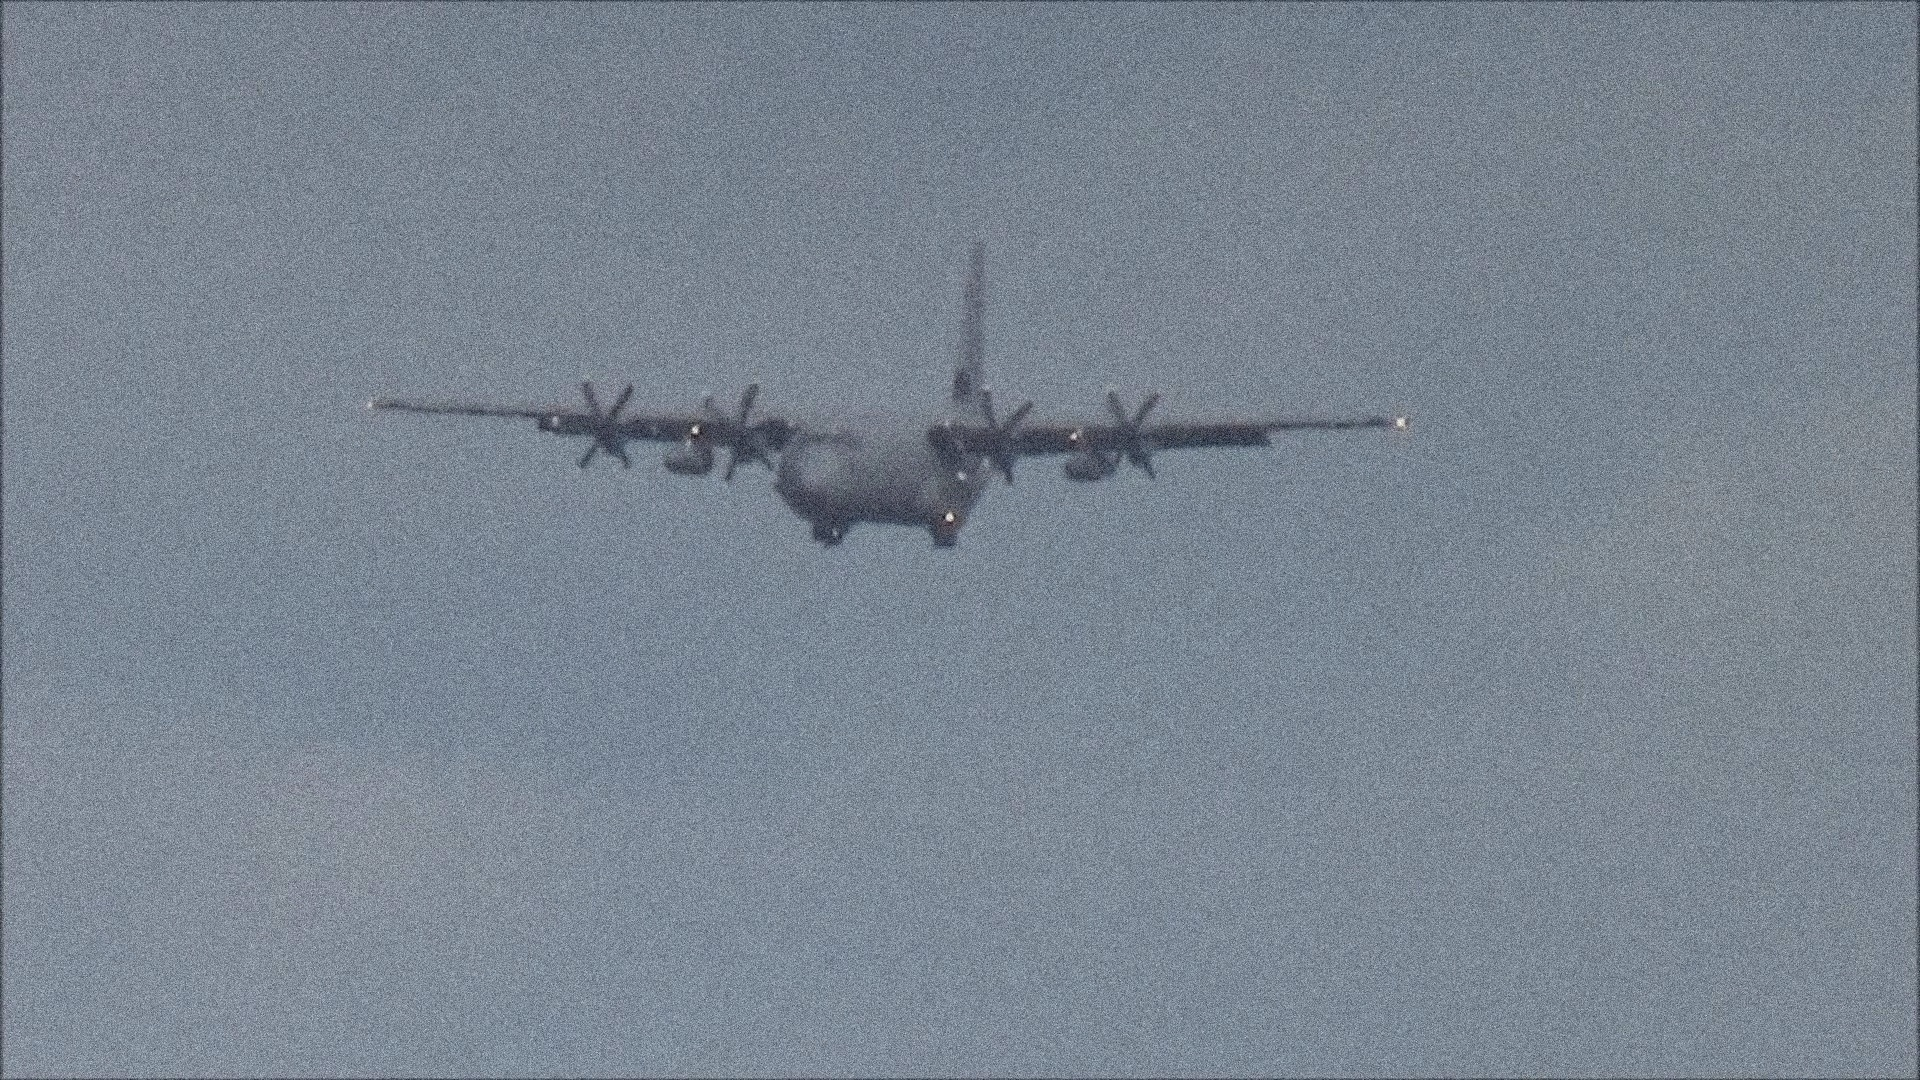Airplane: (359, 233, 1408, 543)
